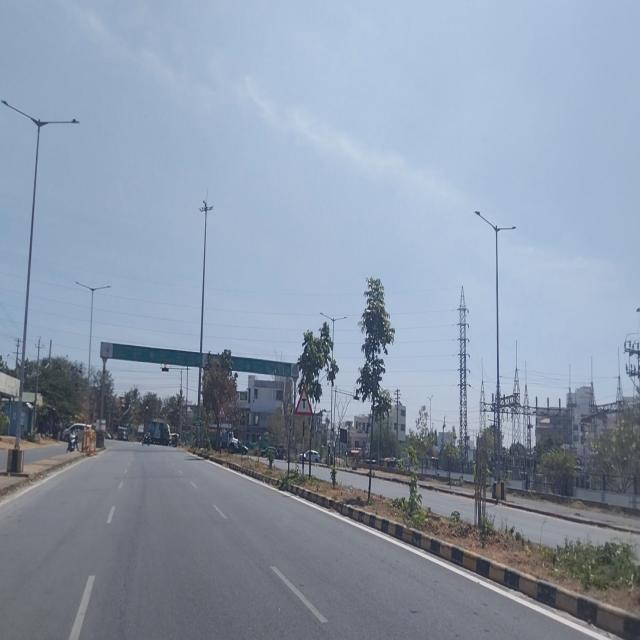bien_cam: (294, 388, 313, 416), (217, 404, 226, 418)
